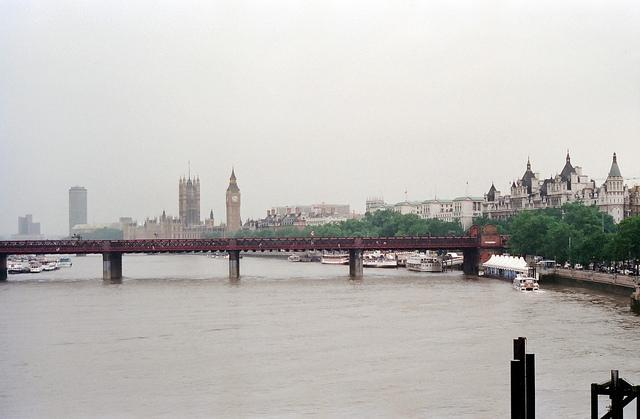car: (574, 264, 584, 270)
